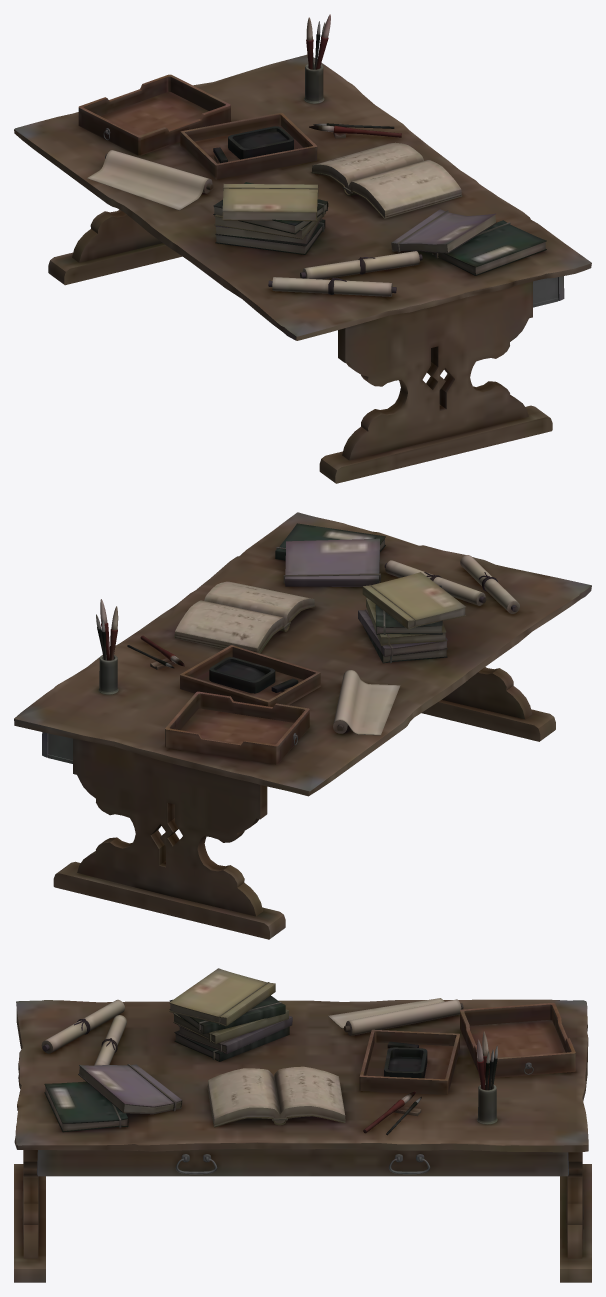
Rendered from SM_JapaneseWritingDesk_5802d5.glb.
The picture shows the model from 3 angles, top to bottom: view 1: azimuth 30°, elevation 25°; view 2: azimuth 150°, elevation 25°; view 3: azimuth 270°, elevation 25°; orthographic projection.
Bounding box in the file's own units: 0.9778 × 0.7694 × 1.63.
Materials: 1 (1 with a texture image).
